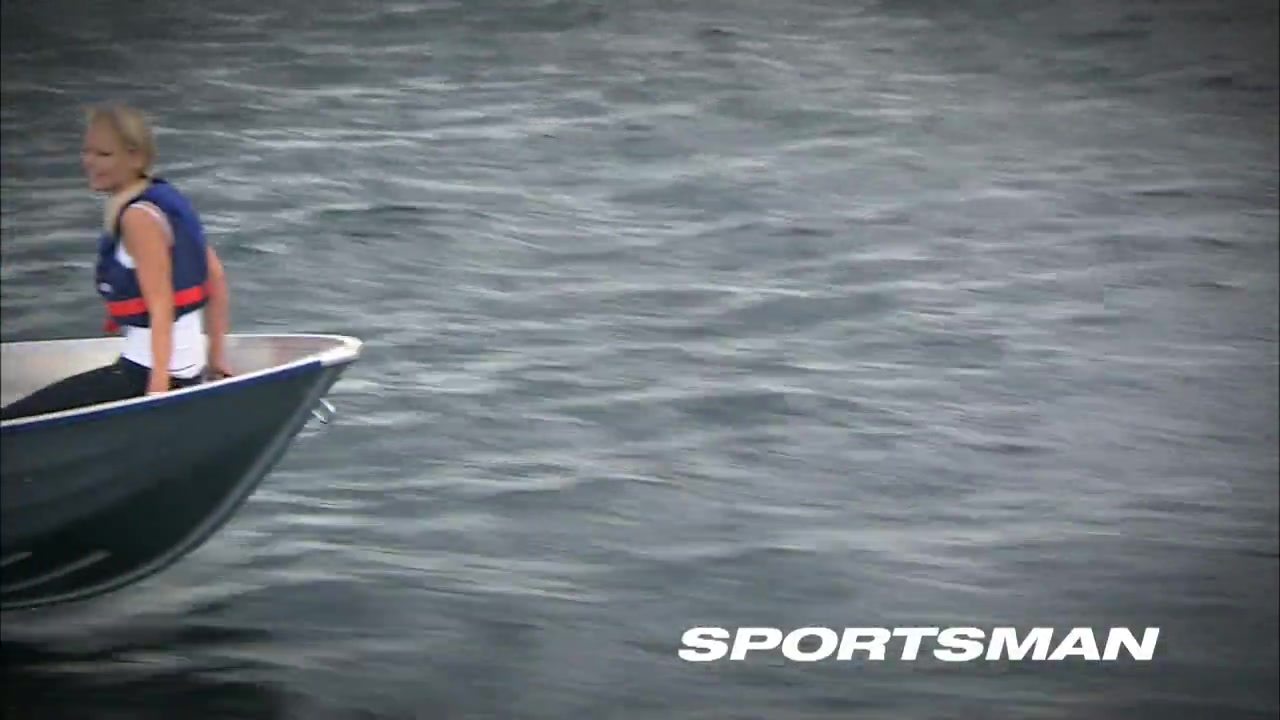boat: (3, 297, 370, 638)
